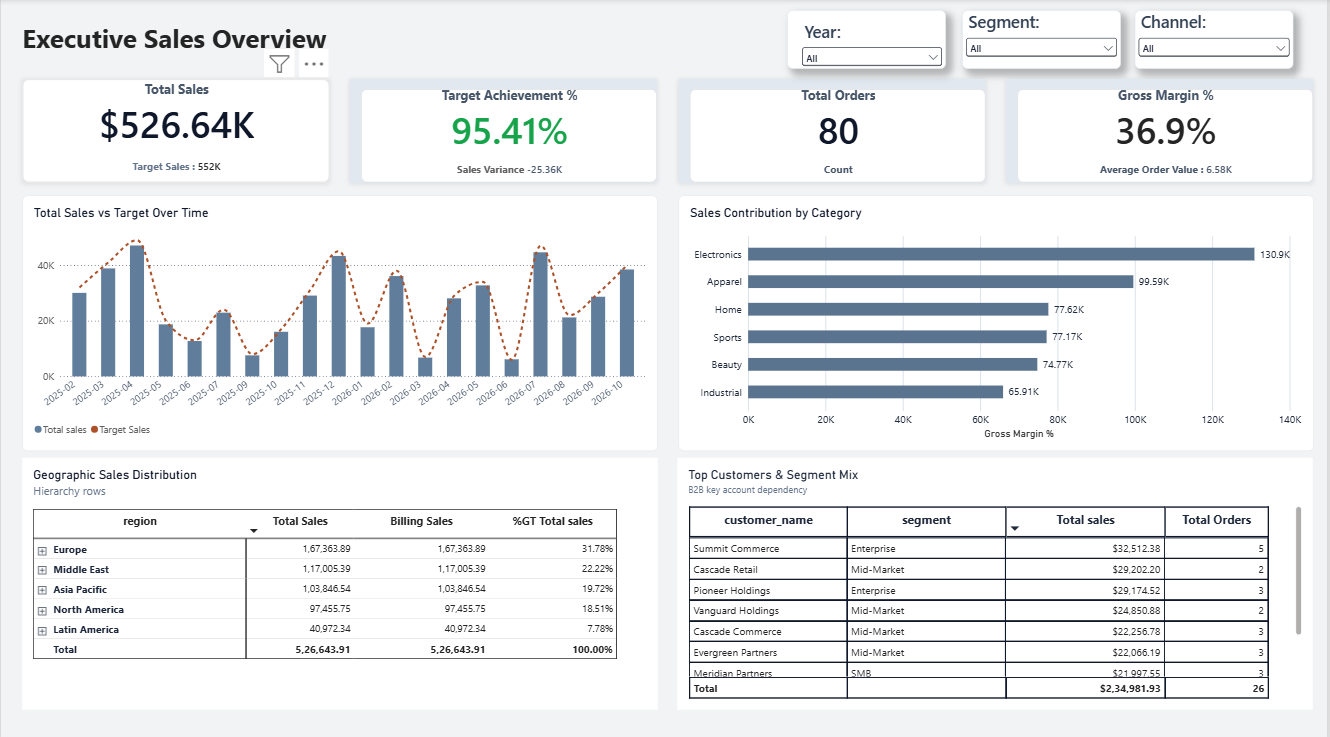

The dashboard page shown, as its layout file describes it:
{"tool":"powerbi","page":{"name":"Executive Sales & Performance Overview","canvas":[1920,1080],"ordinal":0},"visuals":[{"type":"textbox","box":[30,30,700,60],"z":0},{"type":"slicer","fields":{"Values":["dim_customer.segment"]},"box":[1390.7,16.7,229.6,85.2],"z":1000},{"type":"slicer","fields":{"Values":["dim_campaign.Channel"]},"box":[1640.7,16.7,229.6,85.2],"z":2000},{"type":"cardVisual","title":"Total Sales","fields":{"Data":["_measures.Total sales"]},"box":[30.8,115.8,445,150],"z":3000},{"type":"cardVisual","fields":{"Data":["_measures.Target Achievement %"]},"box":[505,115,445,150],"z":4000},{"type":"cardVisual","fields":{"Data":["_measures.Total Orders"]},"box":[980,115,445,150],"z":5000},{"type":"cardVisual","fields":{"Data":["_measures.Gross Margin %"]},"box":[1455,115,445,150],"z":6000},{"type":"lineClusteredColumnComboChart","title":"Total Sales vs Target Over Time","fields":{"Category":["dim_date.year_month"],"Y":["_measures.Total sales"],"Y2":["_measures.Target Sales"]},"box":[30,285,920,370],"z":7000},{"type":"clusteredBarChart","title":"Sales Contribution by Category","fields":{"Category":["dim_product.category"],"Y":["_measures.Total sales"]},"box":[980,285,920,370],"z":8000},{"type":"pivotTable","title":"Geographic Sales Distribution","fields":{"Rows":["dim_customer.region","dim_customer.city"],"Values":["_measures.Total sales","_measures.Sales by Billing City","Divide(_measures.Total sales, ScopedEval(_measures.Total sales, []))"]},"box":[30,665,920,365],"z":9000},{"type":"tableEx","title":"Top Customers & Segment Mix","fields":{"Values":["dim_customer.customer_name","dim_customer.segment","_measures.Total sales","_measures.Total Orders"]},"box":[979.6,664.8,920,365],"z":10000},{"type":"slicer","title":"Year:","fields":{"Values":["dim_date.year"]},"box":[1138.9,16.7,229.6,85.2],"z":11000}]}

Visuals, with their boxes in screenshot pixels (x1, y1, x2, y2), scaled from the page's 1920x1080 canvas onto the 1330x737 screenshot:
textbox: l=21, t=20, r=506, b=61
slicer - dim_customer.segment: l=963, t=11, r=1122, b=70
slicer - dim_campaign.Channel: l=1137, t=11, r=1296, b=70
"Total Sales" cardVisual: l=21, t=79, r=330, b=181
cardVisual - _measures.Target Achievement %: l=350, t=78, r=658, b=181
cardVisual - _measures.Total Orders: l=679, t=78, r=987, b=181
cardVisual - _measures.Gross Margin %: l=1008, t=78, r=1316, b=181
"Total Sales vs Target Over Time" lineClusteredColumnComboChart: l=21, t=194, r=658, b=447
"Sales Contribution by Category" clusteredBarChart: l=679, t=194, r=1316, b=447
"Geographic Sales Distribution" pivotTable: l=21, t=454, r=658, b=703
"Top Customers & Segment Mix" tableEx: l=679, t=454, r=1316, b=703
"Year:" slicer: l=789, t=11, r=948, b=70
